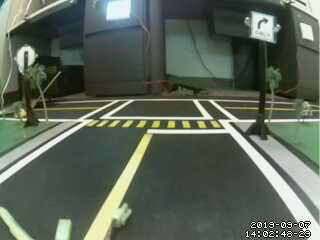Right_only_sign: (251, 11, 277, 43)
